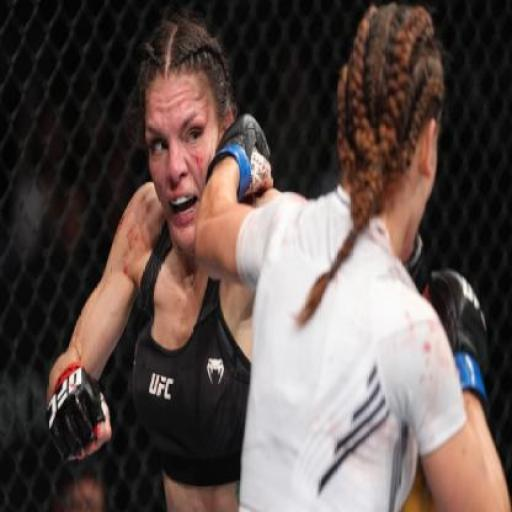Fighting: (48, 8, 512, 512)
